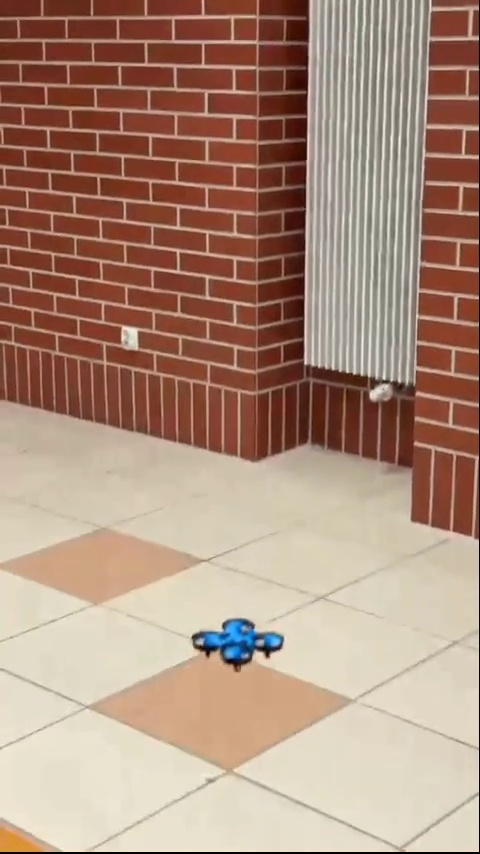drone: (194, 615, 291, 676)
